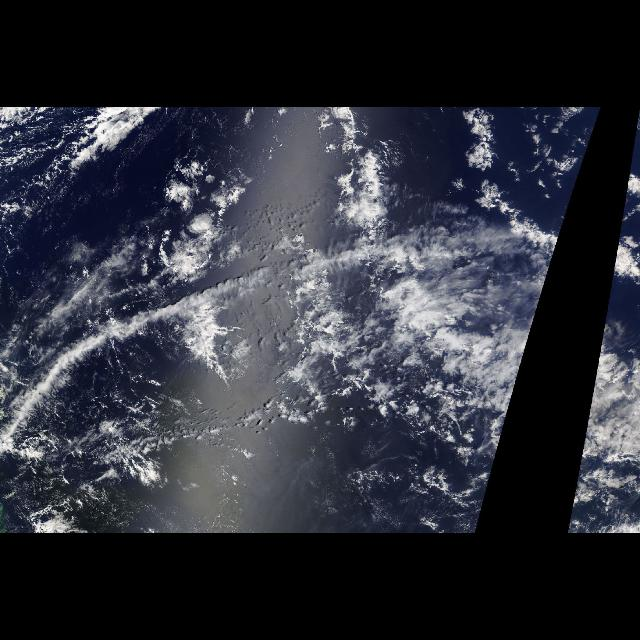Fish: (10, 246, 532, 402)
